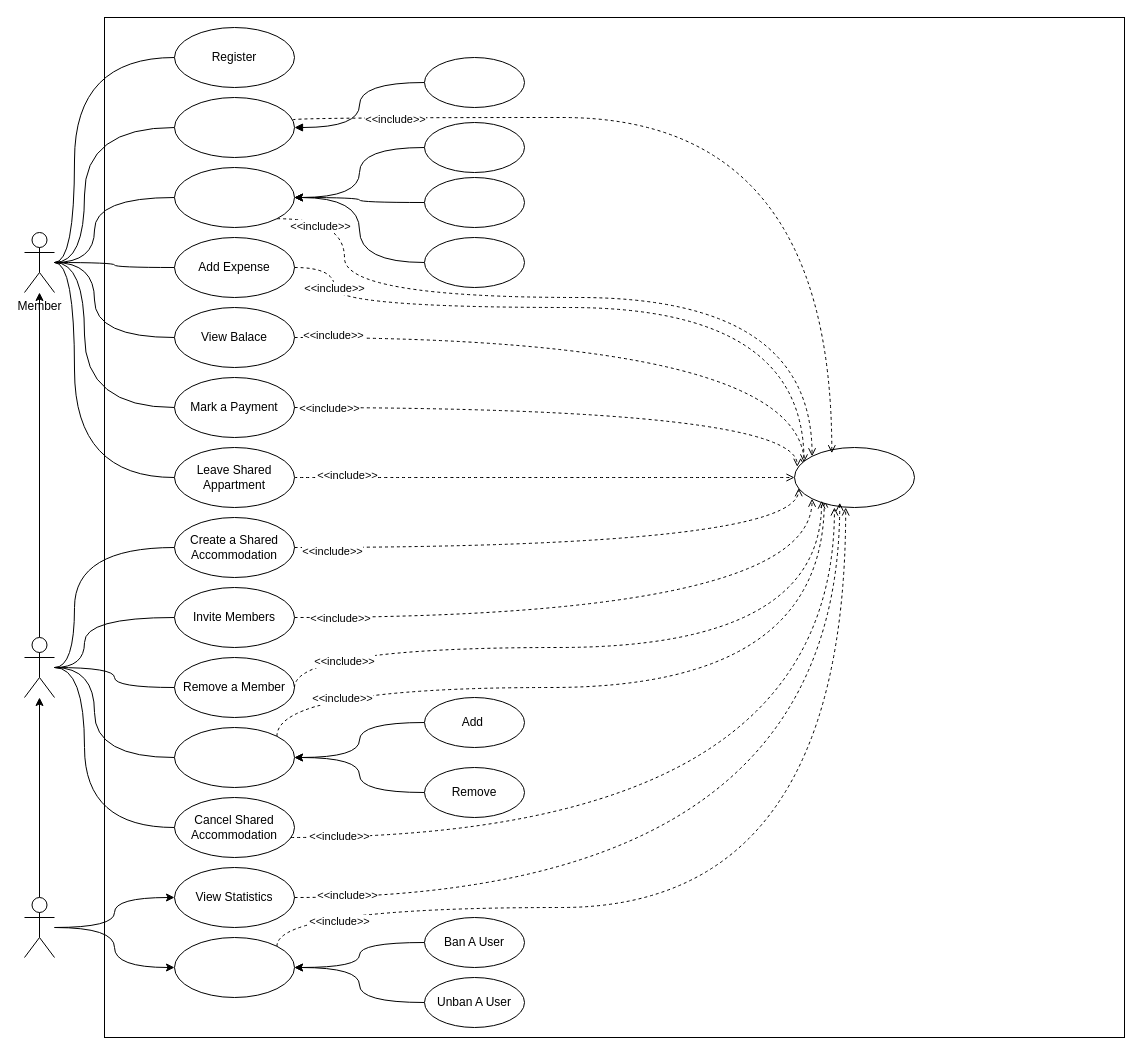
Image size: 1142x1055. Some labels were removed from this diagram. Here are the shapes that lost their labels. From the top down, the box of each, then its label:
(174, 96, 294, 158): Join Shared Appartment
(174, 166, 294, 228): View
(794, 446, 914, 508): Login To The Platform
(24, 636, 54, 698): Owner
(174, 726, 294, 788): Manage Categories
(24, 896, 54, 958): Admin
(174, 936, 294, 998): Manage Users
